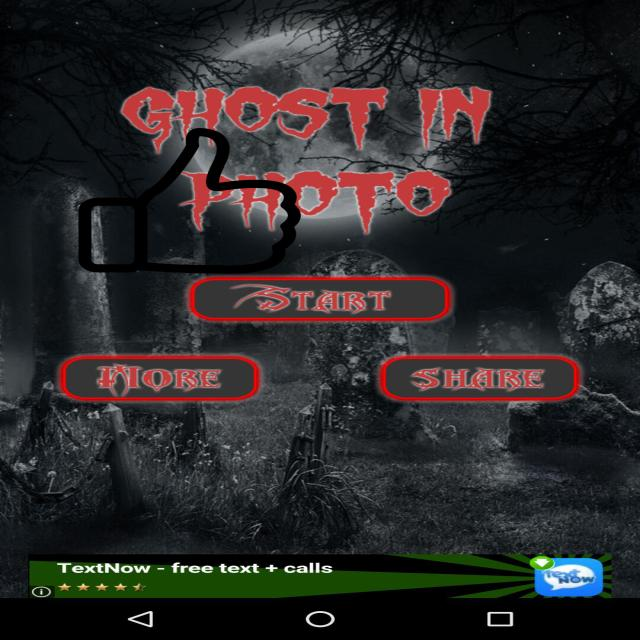privacy zuckering: (75, 128, 304, 274)
